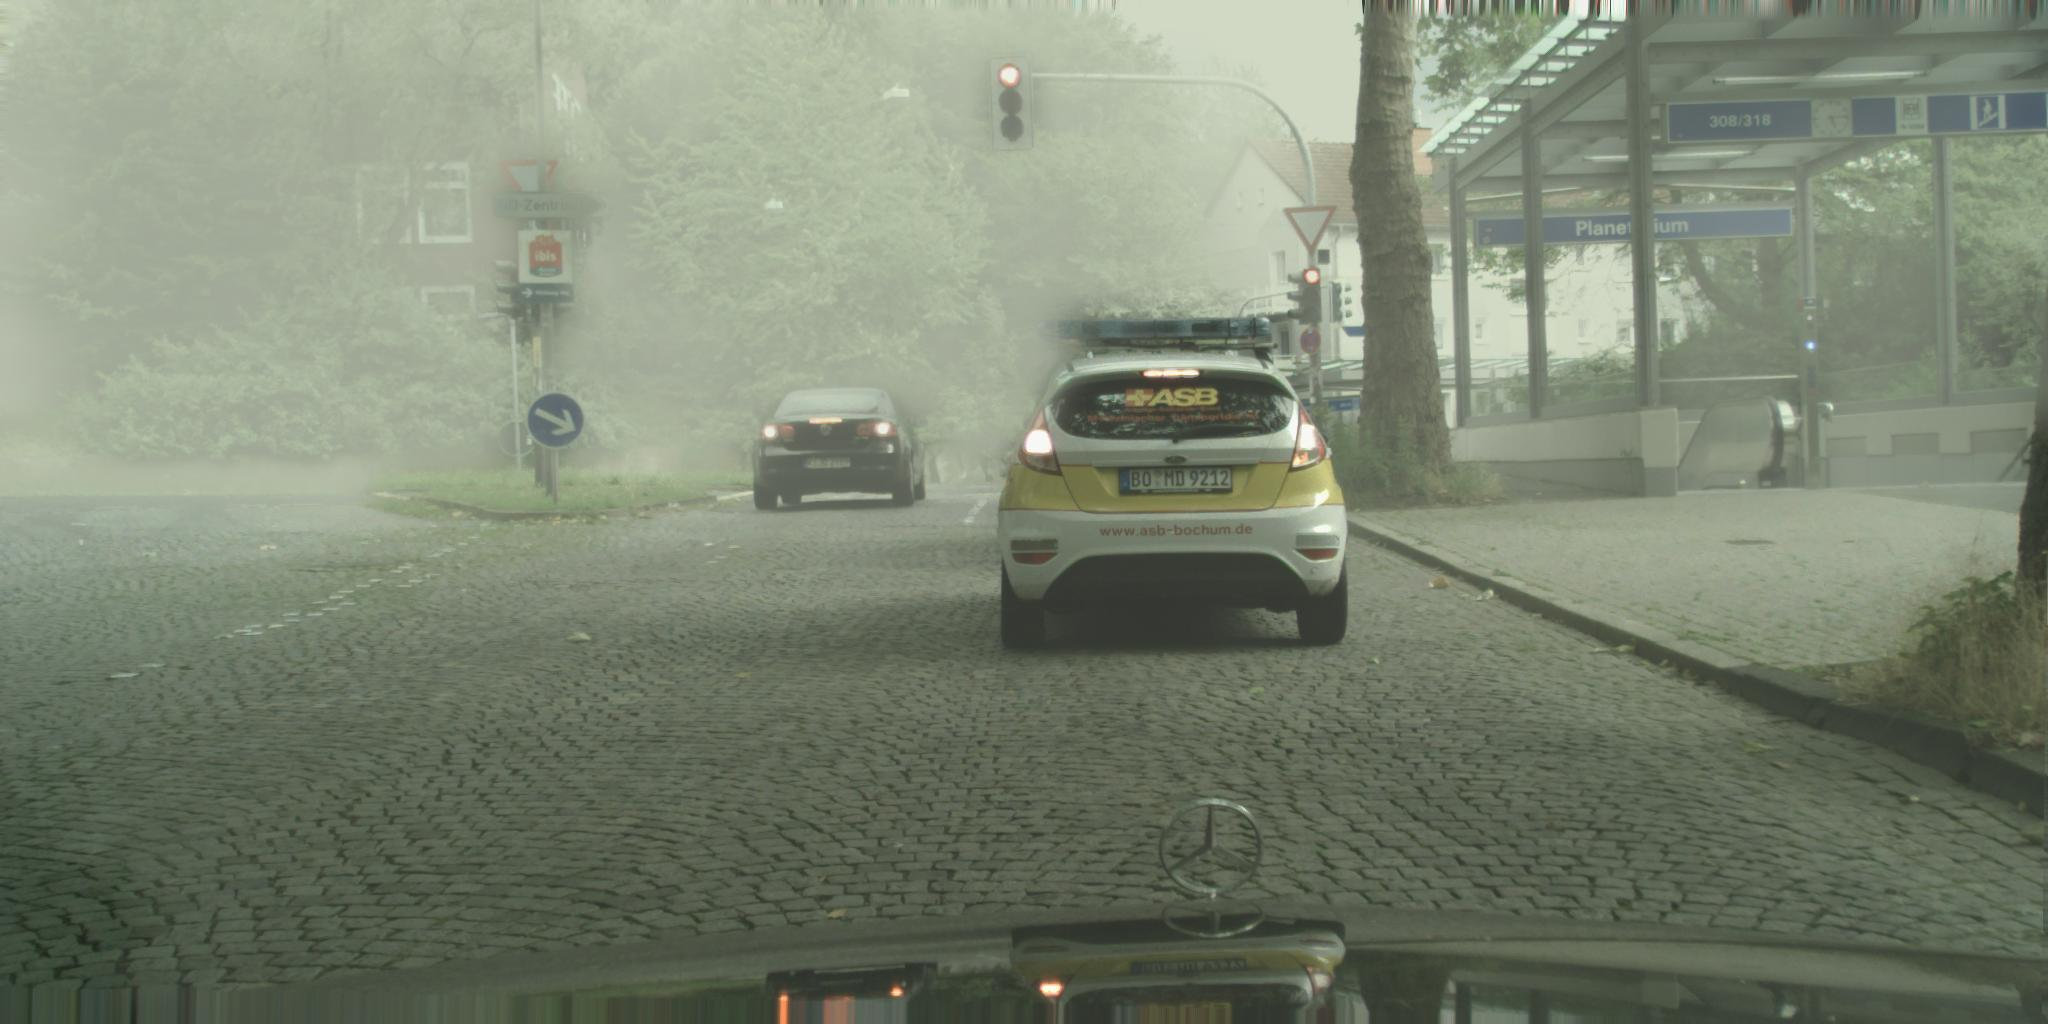car: (980, 317, 1349, 648), (754, 387, 929, 509)
